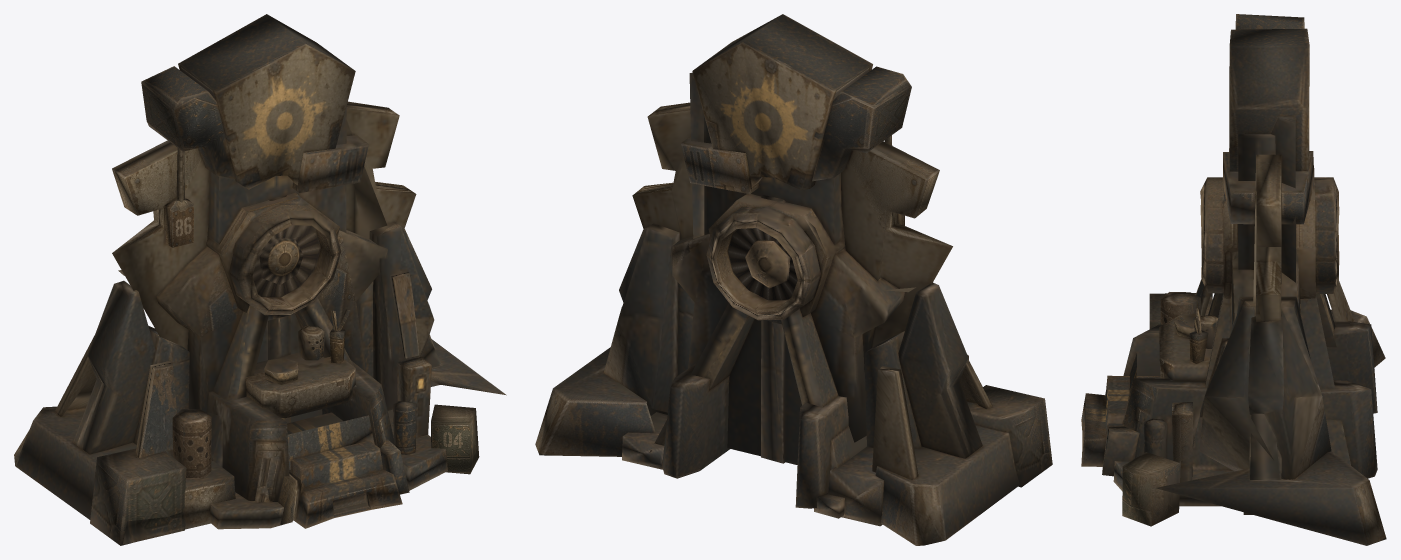
File: Scrap Shrine.glb
3 views of the same model, side by side, from view 1: azimuth 30°, elevation 25°; view 2: azimuth 150°, elevation 25°; view 3: azimuth 270°, elevation 25° (orthographic).
Size of the model in its own units: 2 by 2 by 1.32.
Materials: 1 (1 with a texture image).
